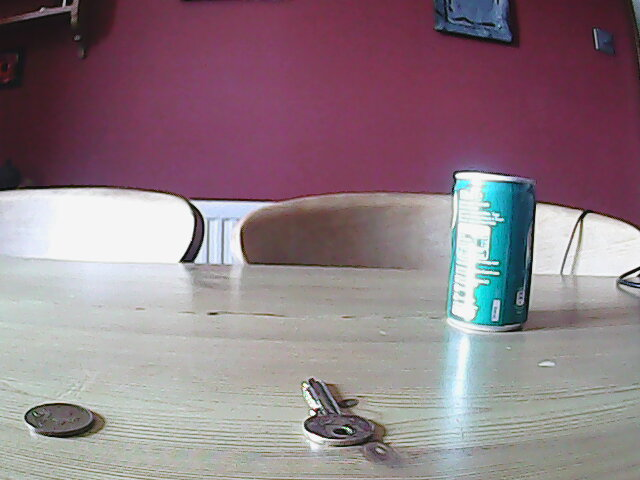Can: (446, 169, 534, 337)
Coin: (22, 400, 96, 440)
Key: (297, 373, 377, 449)
